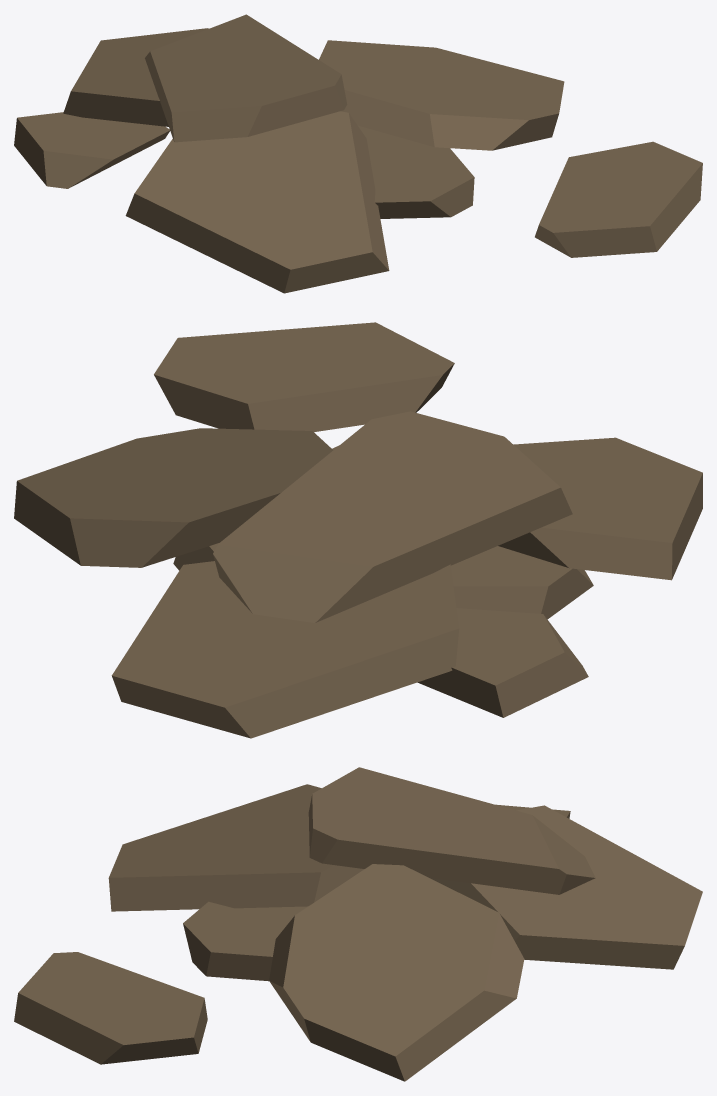
File: LP_PostApoc_RubblePile1.fbx
3 views of the same model, one above another, from view 1: azimuth 30°, elevation 25°; view 2: azimuth 150°, elevation 25°; view 3: azimuth 270°, elevation 25° (orthographic). The views are drawn at different scales.
Parts seen in each view (by area): view 1: RubblePile1; view 2: RubblePile1; view 3: RubblePile1.
Part boxes in pixels (box(x1,y1,x2,y2)): RubblePile1: box(14, 14, 702, 293); RubblePile1: box(14, 322, 702, 738); RubblePile1: box(14, 767, 702, 1081).
Size of the model in its own units: 244 by 55.67 by 290.
